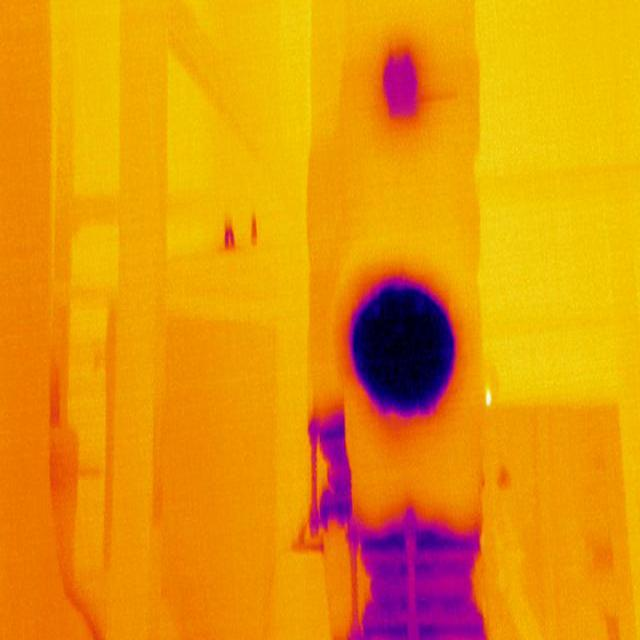leakage: (372, 38, 430, 130)
